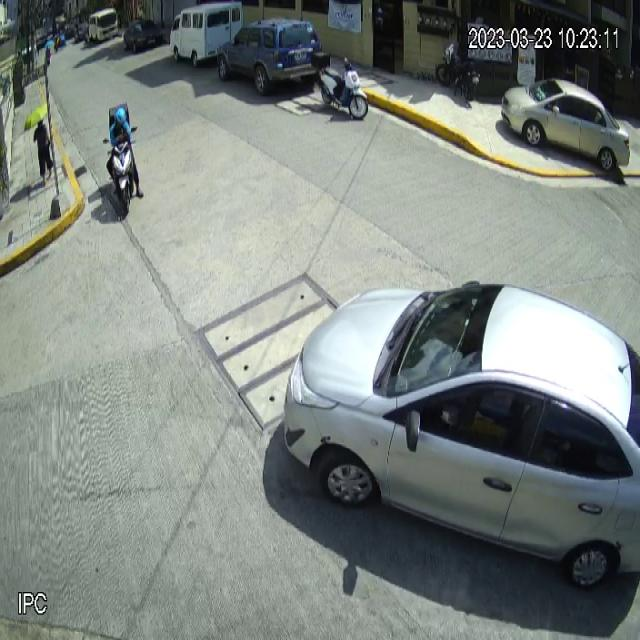Car: (281, 276, 640, 590), (501, 79, 631, 172), (216, 15, 323, 94)
Motorcycle: (311, 50, 369, 121), (103, 126, 138, 216)
Van: (169, 0, 243, 67)
